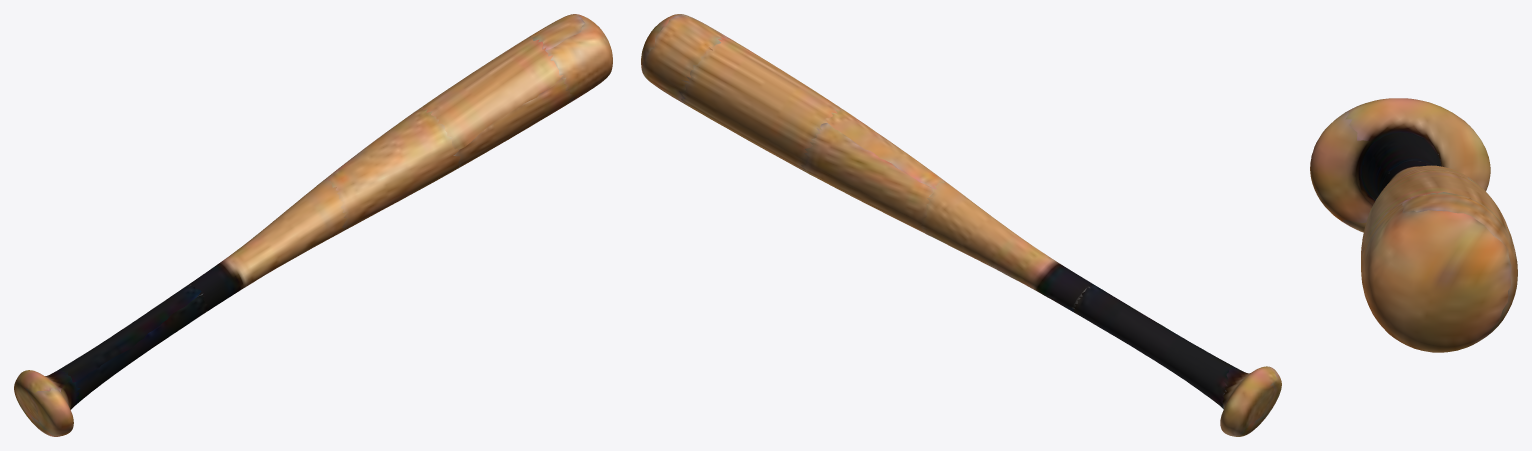
Rendered from bat.glb.
3 views of the same model, side by side, from view 1: azimuth 30°, elevation 25°; view 2: azimuth 150°, elevation 25°; view 3: azimuth 270°, elevation 25° (orthographic). The views are drawn at different scales.
Parts seen in each view (by area): view 1: bat; view 2: bat; view 3: bat.
Boxes of the visible parts, box(x1,y1,x2,y2) form: bat: box(14, 14, 612, 436); bat: box(641, 14, 1281, 436); bat: box(1310, 98, 1517, 352).
Size of the model in its own units: 0.85 by 0.3795 by 0.1294.
Materials: 1 (1 with a texture image).
